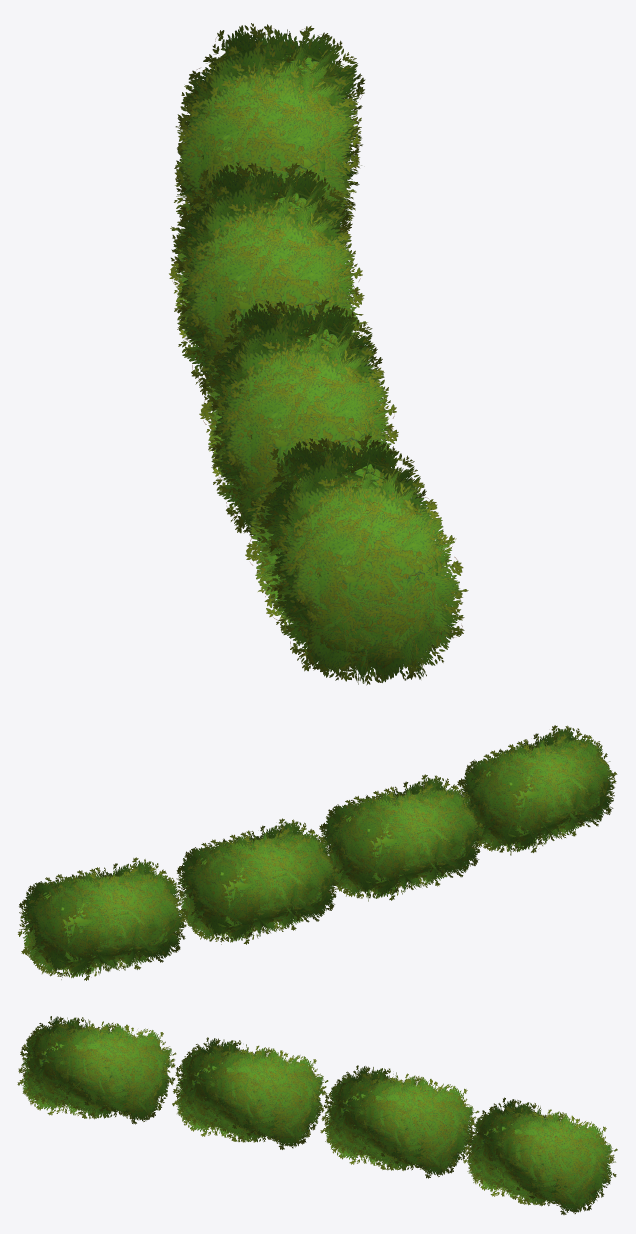
The model's file is SM_Bush06_Splines_4.fbx.
The picture shows the model from 3 angles, top to bottom: view 1: azimuth 30°, elevation 25°; view 2: azimuth 150°, elevation 25°; view 3: azimuth 270°, elevation 25°; orthographic projection. The views are drawn at different scales.
Parts seen in each view (by area): view 1: SM_Bush06_Splines_4_LOD0; view 2: SM_Bush06_Splines_4_LOD0; view 3: SM_Bush06_Splines_4_LOD0.
Part boxes in pixels (x1,y1,x2,y2): SM_Bush06_Splines_4_LOD0: (169, 23, 468, 685); SM_Bush06_Splines_4_LOD0: (18, 725, 617, 980); SM_Bush06_Splines_4_LOD0: (17, 1016, 617, 1214).
Bounding box in the file's own units: 551 × 979 × 166.
